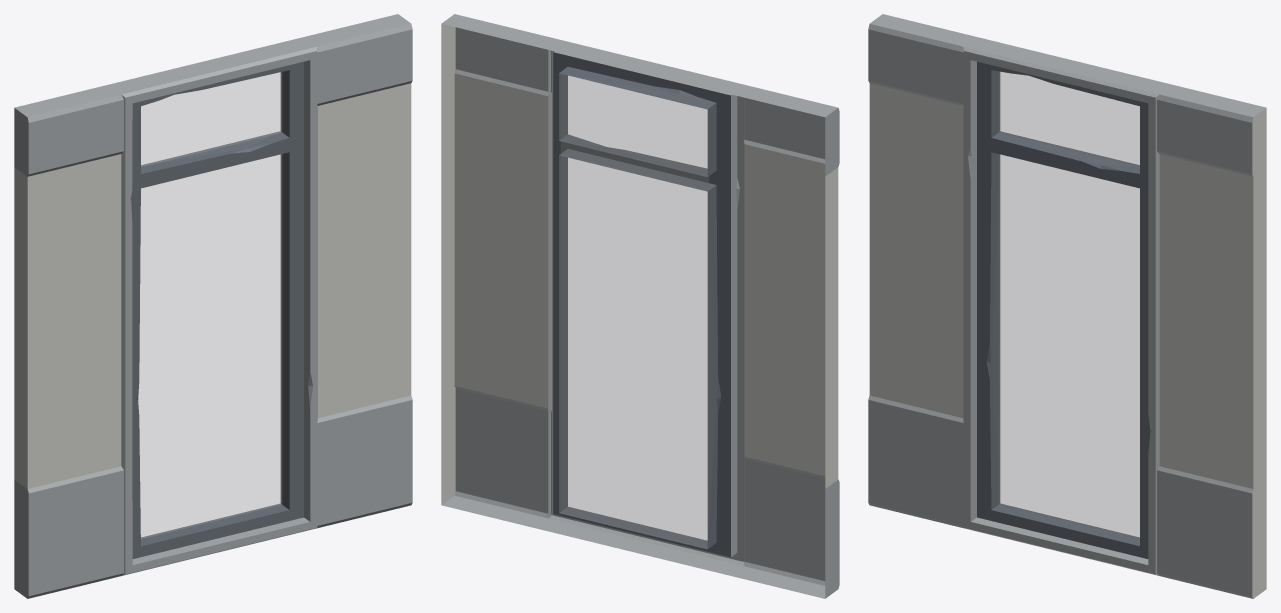
The model's file is Wall_Window_02.FBX.
The picture shows the model from 3 angles, left to right: view 1: azimuth 30°, elevation 25°; view 2: azimuth 150°, elevation 25°; view 3: azimuth 330°, elevation 25°; orthographic projection.
Visible parts, largest first — view 1: Wall_Window_02, Glass; view 2: Wall_Window_02, Glass; view 3: Wall_Window_02, Glass.
Part boxes in pixels (<box>): Wall_Window_02: <box>14,14,412,598</box>; Glass: <box>138,72,281,538</box>; Wall_Window_02: <box>441,14,839,598</box>; Glass: <box>561,74,708,547</box>; Wall_Window_02: <box>868,14,1266,598</box>; Glass: <box>999,71,1139,538</box>.
Size of the model in its own units: 250 by 300 by 17.04.
